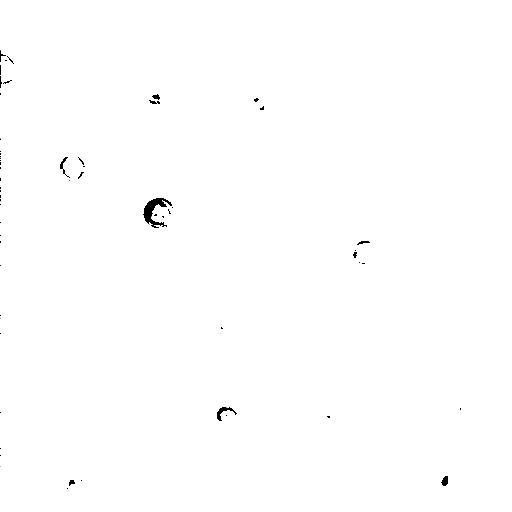micro-algae: (473, 169, 512, 231), (139, 195, 177, 230), (427, 463, 461, 501), (241, 88, 274, 118), (59, 153, 85, 185), (350, 239, 376, 265), (62, 475, 85, 498), (2, 53, 17, 83), (217, 406, 237, 425)
